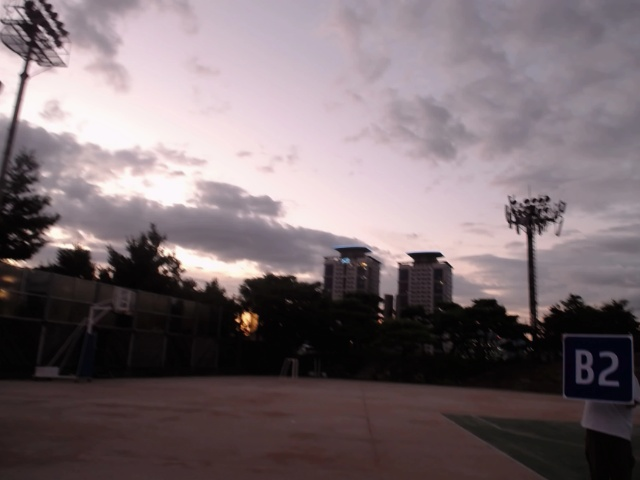delivery_b2: (562, 332, 635, 405)
